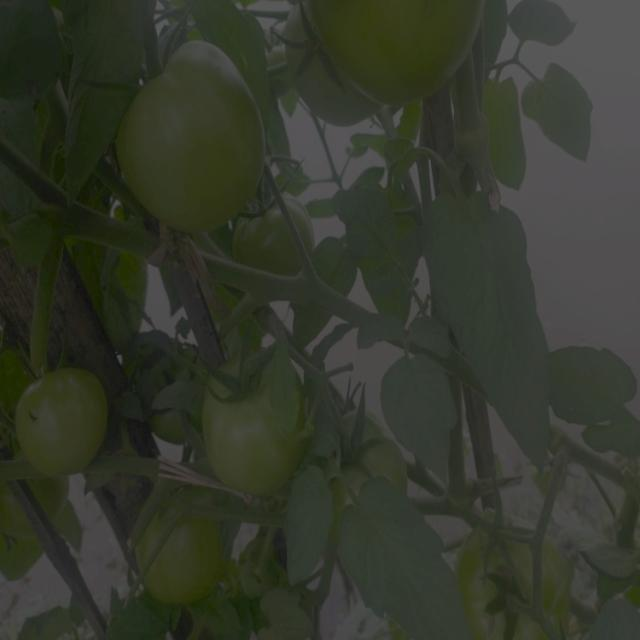tomato: (110, 46, 270, 224), (303, 2, 495, 104), (208, 352, 306, 494), (16, 367, 112, 493), (462, 522, 561, 640), (128, 498, 225, 611), (286, 19, 369, 122), (230, 198, 312, 269), (336, 410, 404, 494), (143, 365, 207, 447)
